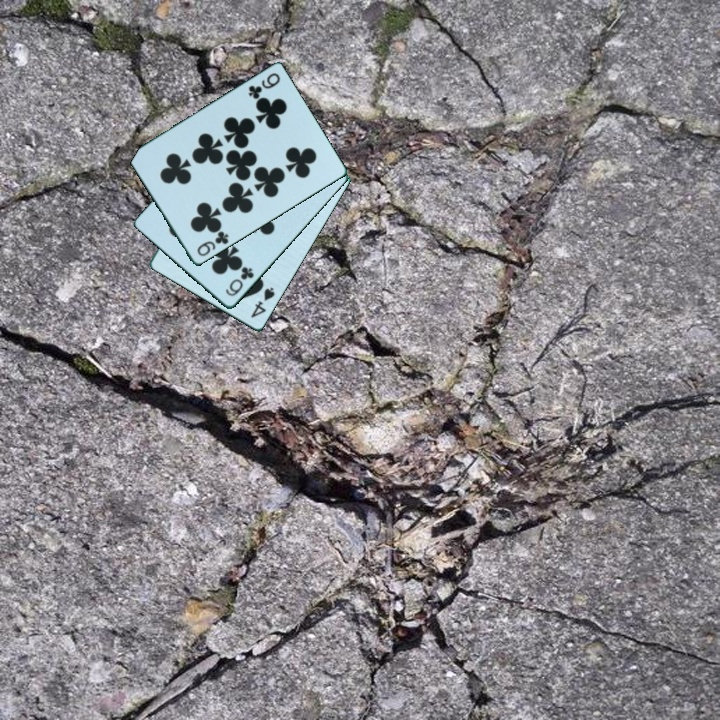4s: (247, 284, 278, 321)
6c: (222, 263, 257, 300)
9c: (193, 228, 232, 260), (244, 69, 283, 101)
